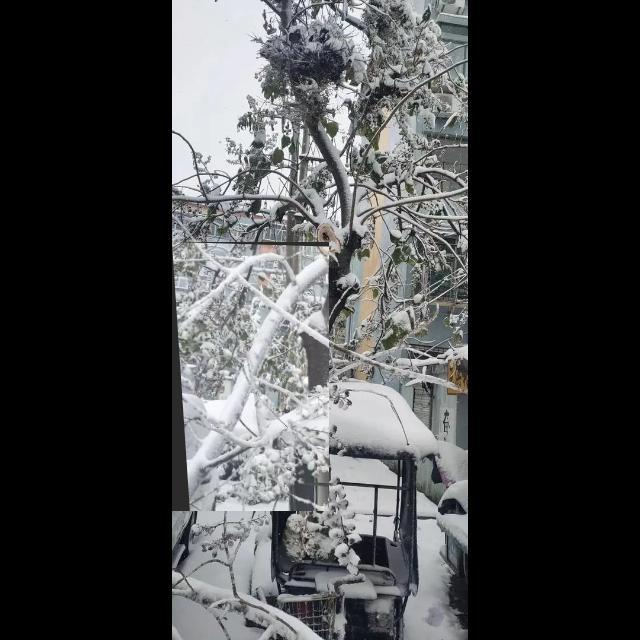fallen_tree: (172, 242, 330, 512)
